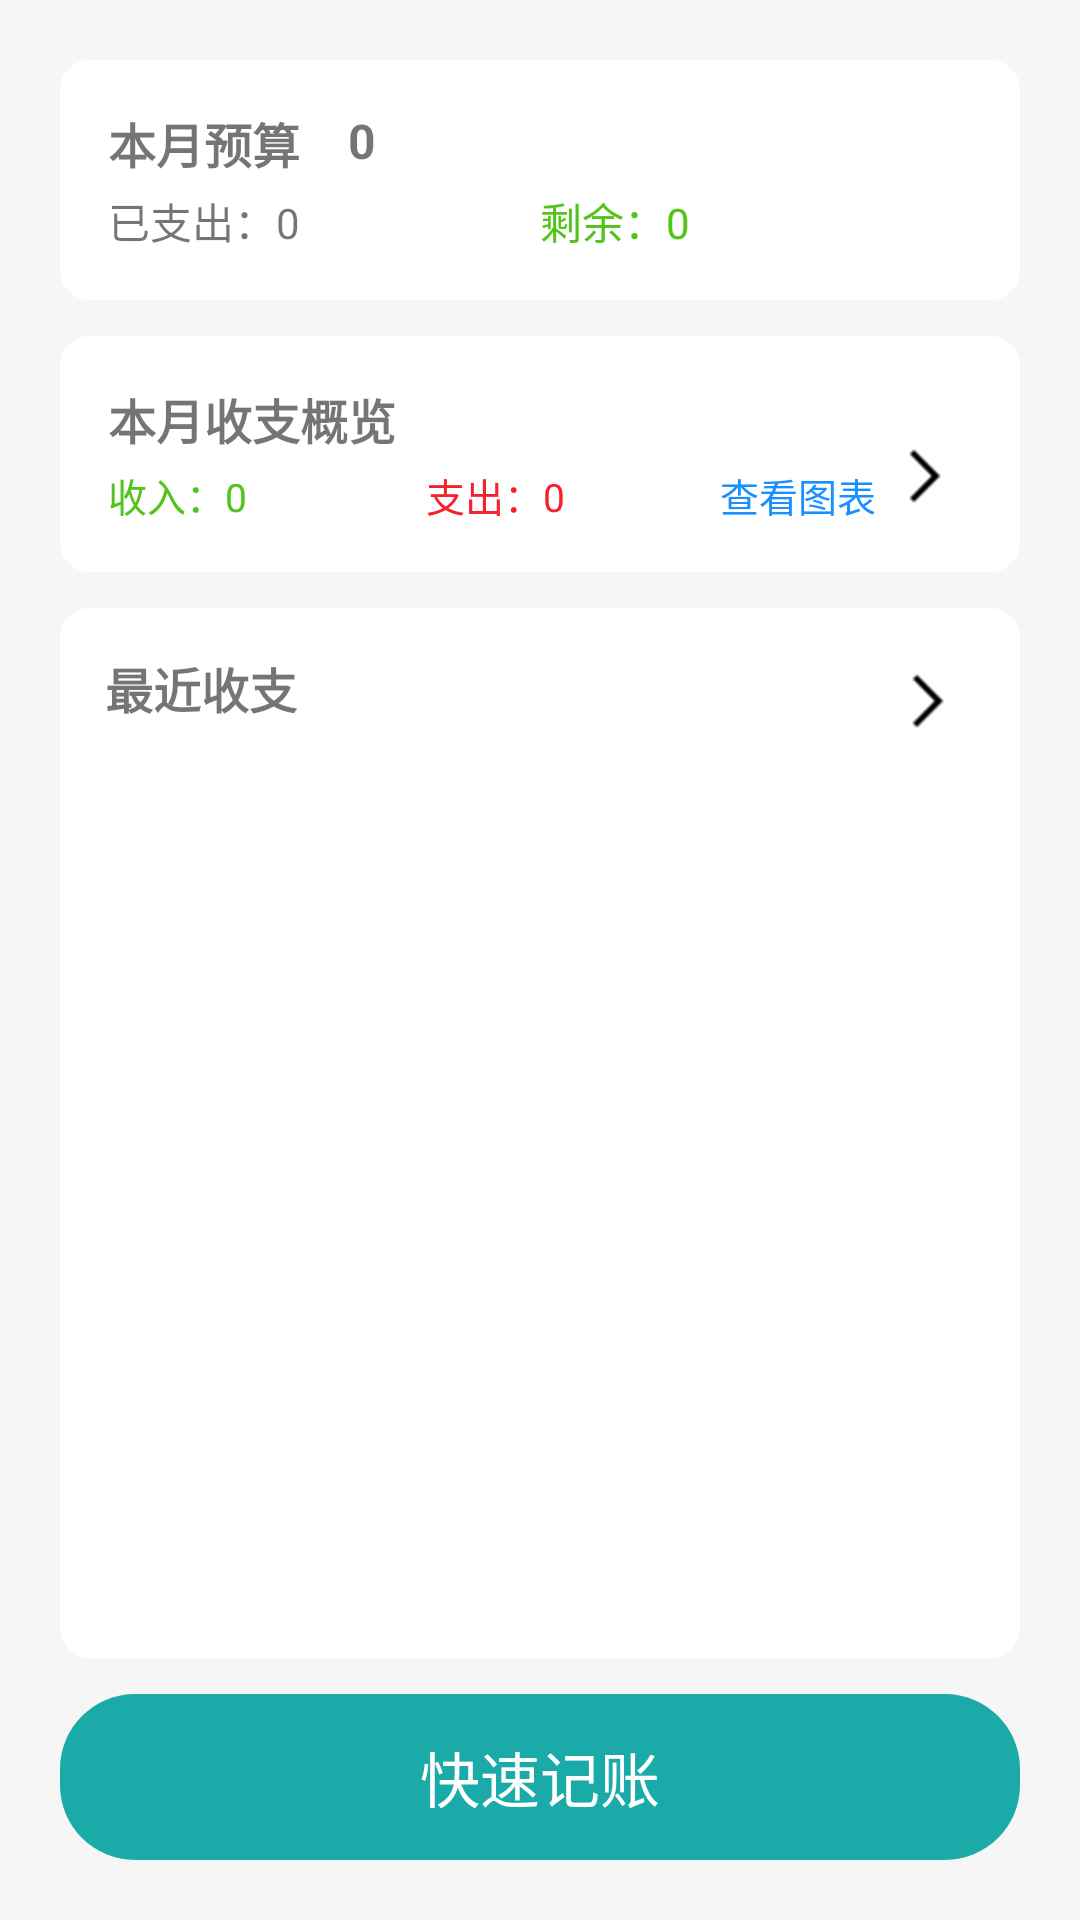

Where icons sit on this 1080 × 1920 app screen, as bbox(x1, y1, x2, y2):
arrow right: bbox(909, 449, 941, 503), bbox(912, 674, 944, 728)
